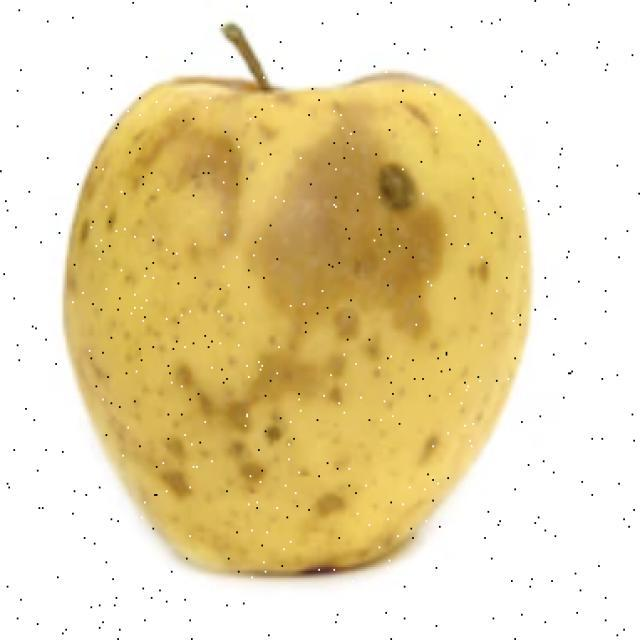Rotten: (89, 75, 518, 563)
